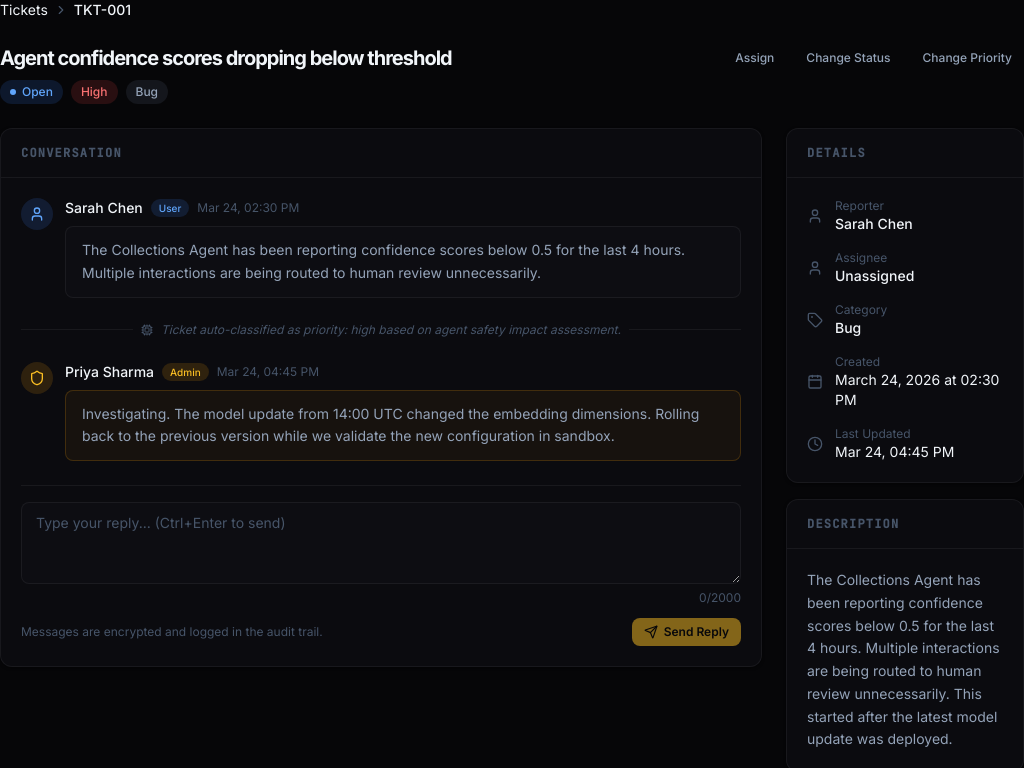
Test: TicketDetail › opens change status modal
Click the button "Change Status": click(848, 58) [794,44,902,72]
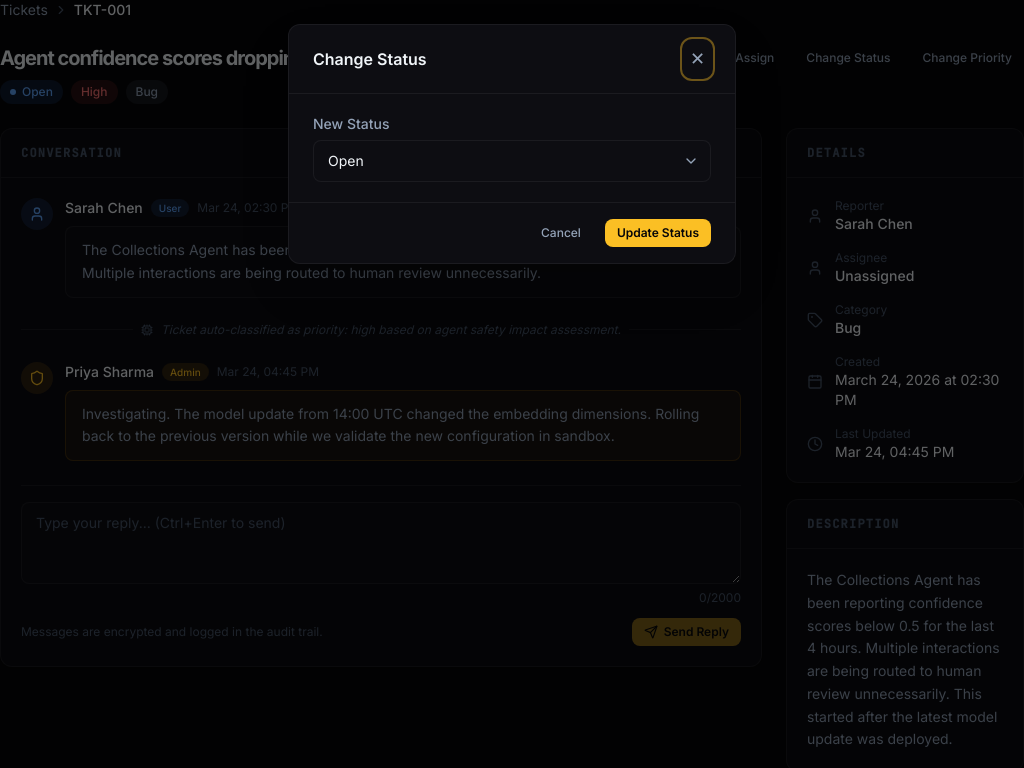
Expected: the button "Update Status" is shown, [605,219,711,247]
